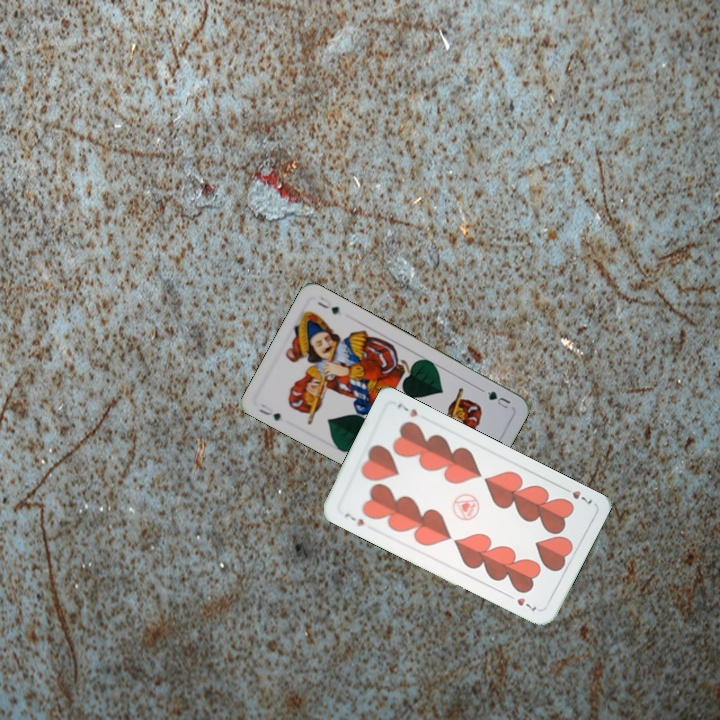GU: (483, 387, 513, 411), (255, 400, 284, 423)
H7: (558, 482, 595, 507), (341, 508, 367, 529)
